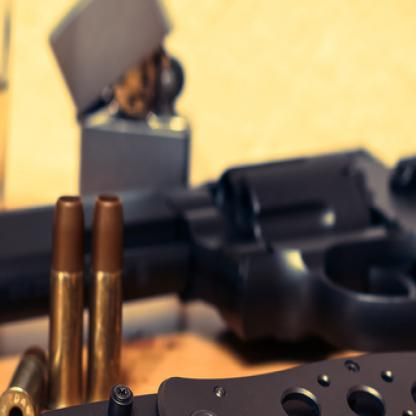knife: (0, 345, 415, 415)
